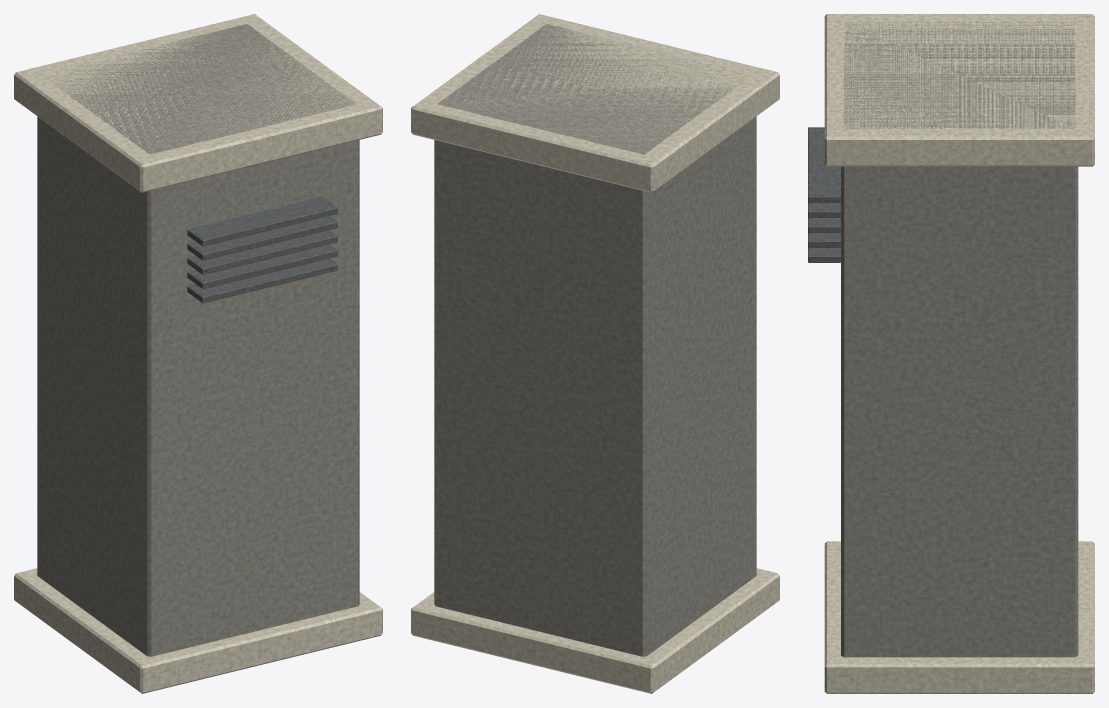
File: TUNN31RW_lod1.glb
3 views of the same model, side by side, from view 1: azimuth 30°, elevation 25°; view 2: azimuth 150°, elevation 25°; view 3: azimuth 270°, elevation 25° (orthographic). The views are drawn at different scales.
Visible parts, largest first — view 1: TUNN31RW_LOD1; view 2: TUNN31RW_LOD1; view 3: TUNN31RW_LOD1.
Part boxes in pixels (<box>): TUNN31RW_LOD1: <box>14,14,382,693</box>; TUNN31RW_LOD1: <box>411,14,779,693</box>; TUNN31RW_LOD1: <box>808,14,1094,693</box>.
Size of the model in its own units: 1.43 by 3 by 1.39.
Materials: 3 (3 with a texture image).
